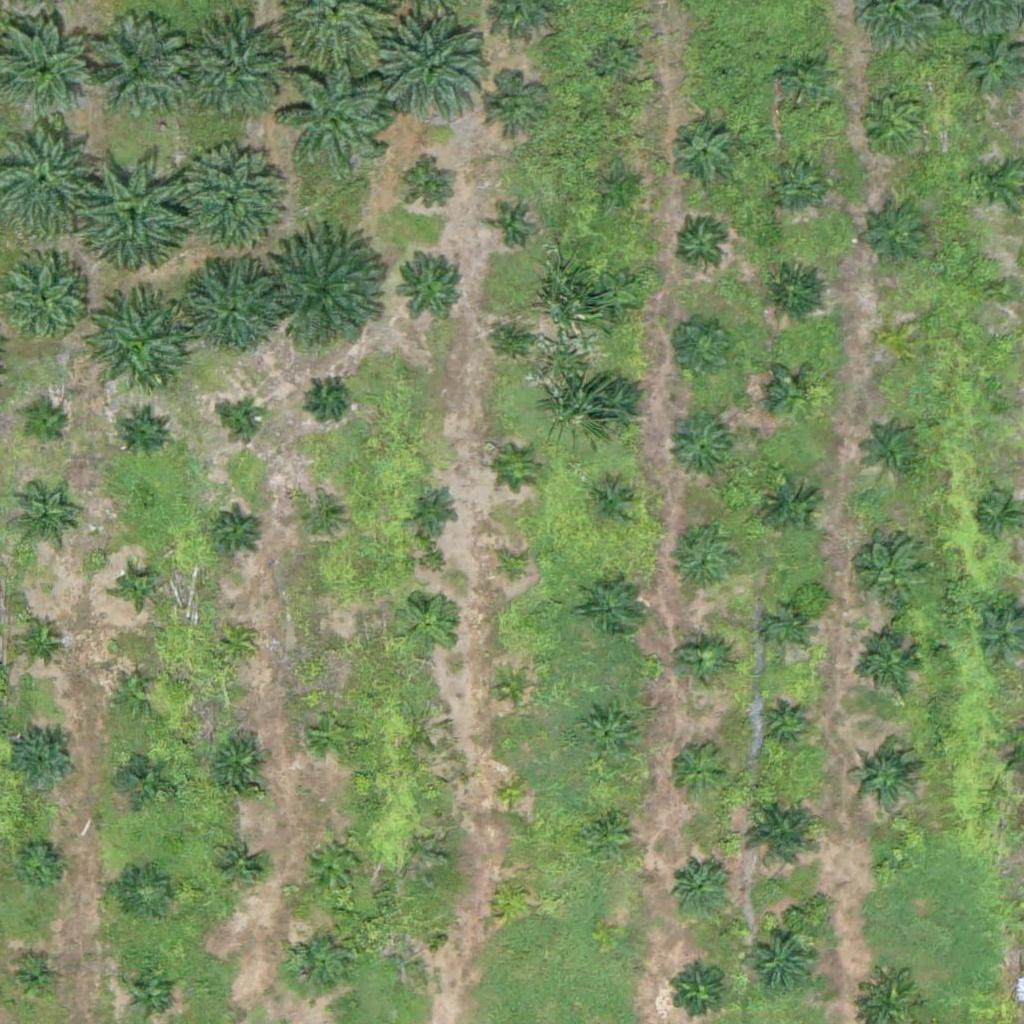Kelapa_Sawit: (73, 150, 198, 276), (269, 231, 394, 356), (281, 58, 394, 171), (170, 144, 283, 257), (378, 18, 490, 131), (79, 294, 191, 407), (180, 255, 280, 356), (186, 20, 286, 121), (85, 19, 185, 120), (739, 790, 826, 878), (847, 741, 922, 817), (661, 311, 736, 387), (742, 921, 817, 996), (393, 247, 468, 322), (665, 739, 728, 802), (670, 532, 733, 595), (668, 856, 731, 919), (11, 492, 74, 555), (284, 930, 347, 993), (583, 575, 646, 638), (13, 728, 76, 791), (579, 705, 642, 768), (584, 375, 647, 438), (480, 74, 543, 137), (864, 204, 927, 267), (763, 259, 826, 322), (773, 49, 836, 112), (669, 416, 731, 479), (666, 959, 728, 1022), (759, 476, 821, 539), (859, 633, 921, 696), (861, 543, 924, 605), (867, 421, 929, 484), (208, 732, 270, 795), (302, 833, 364, 896), (670, 118, 732, 181), (864, 94, 926, 157), (398, 593, 460, 656), (120, 867, 170, 918), (588, 479, 638, 530), (118, 749, 168, 800), (407, 164, 457, 215), (972, 154, 1022, 205), (595, 273, 645, 324), (14, 614, 64, 665), (15, 838, 65, 889), (213, 838, 263, 889), (125, 970, 175, 1021), (677, 638, 727, 688), (769, 368, 819, 418), (118, 407, 168, 457), (212, 505, 262, 555), (582, 806, 632, 856), (677, 220, 727, 270), (771, 161, 821, 211), (408, 484, 458, 534), (308, 709, 358, 759), (111, 669, 161, 719), (19, 402, 69, 452), (10, 955, 60, 1005), (758, 699, 807, 750), (502, 449, 540, 487), (309, 377, 347, 415), (595, 40, 633, 78), (602, 166, 640, 204), (495, 550, 533, 588), (493, 669, 531, 707), (495, 776, 533, 814), (491, 876, 529, 914), (217, 623, 255, 661), (120, 568, 158, 606), (226, 403, 263, 441), (768, 608, 805, 646), (303, 501, 340, 539), (315, 630, 352, 668), (398, 928, 435, 966), (493, 211, 530, 248), (497, 321, 534, 358), (990, 391, 1015, 416), (990, 275, 1015, 300), (885, 329, 910, 354), (875, 856, 900, 881), (712, 66, 737, 91)
